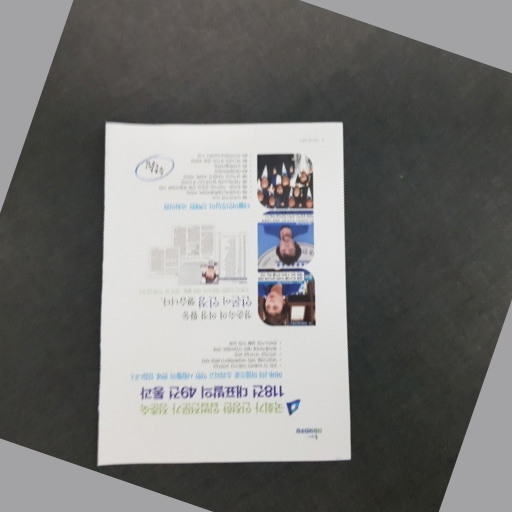Paper_2: (88, 114, 371, 477)
